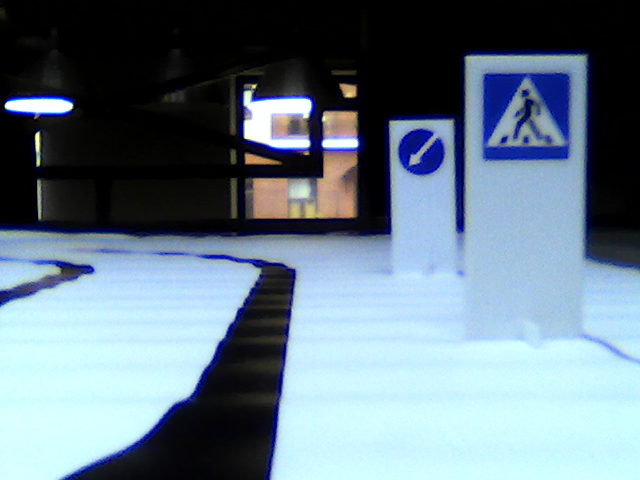pesh: (477, 71, 576, 165)
prep: (398, 125, 445, 177)
